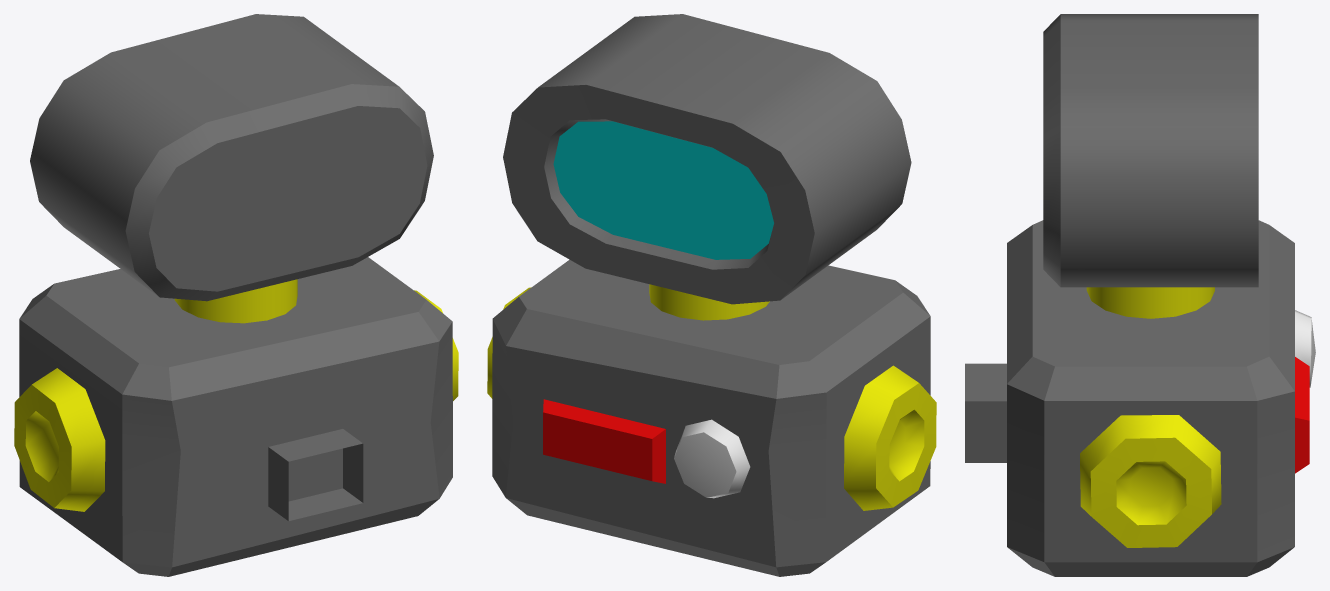
Rendered from Laundress_Body2.fbx.
3 views of the same model, side by side, from view 1: azimuth 30°, elevation 25°; view 2: azimuth 150°, elevation 25°; view 3: azimuth 270°, elevation 25° (orthographic). The views are drawn at different scales.
Parts seen in each view (by area): view 1: Laundress_Body2; view 2: Laundress_Body2; view 3: Laundress_Body2.
Boxes of the visible parts, <box> form: Laundress_Body2: <box>14,14,458,576</box>; Laundress_Body2: <box>487,14,936,576</box>; Laundress_Body2: <box>965,14,1315,576</box>.
Size of the model in its own units: 97.77 by 105 by 74.08.
